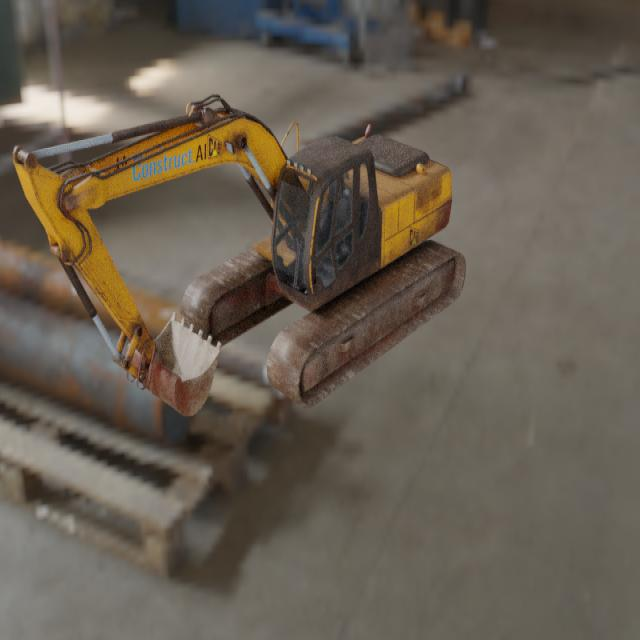excavator: (12, 93, 466, 416)
